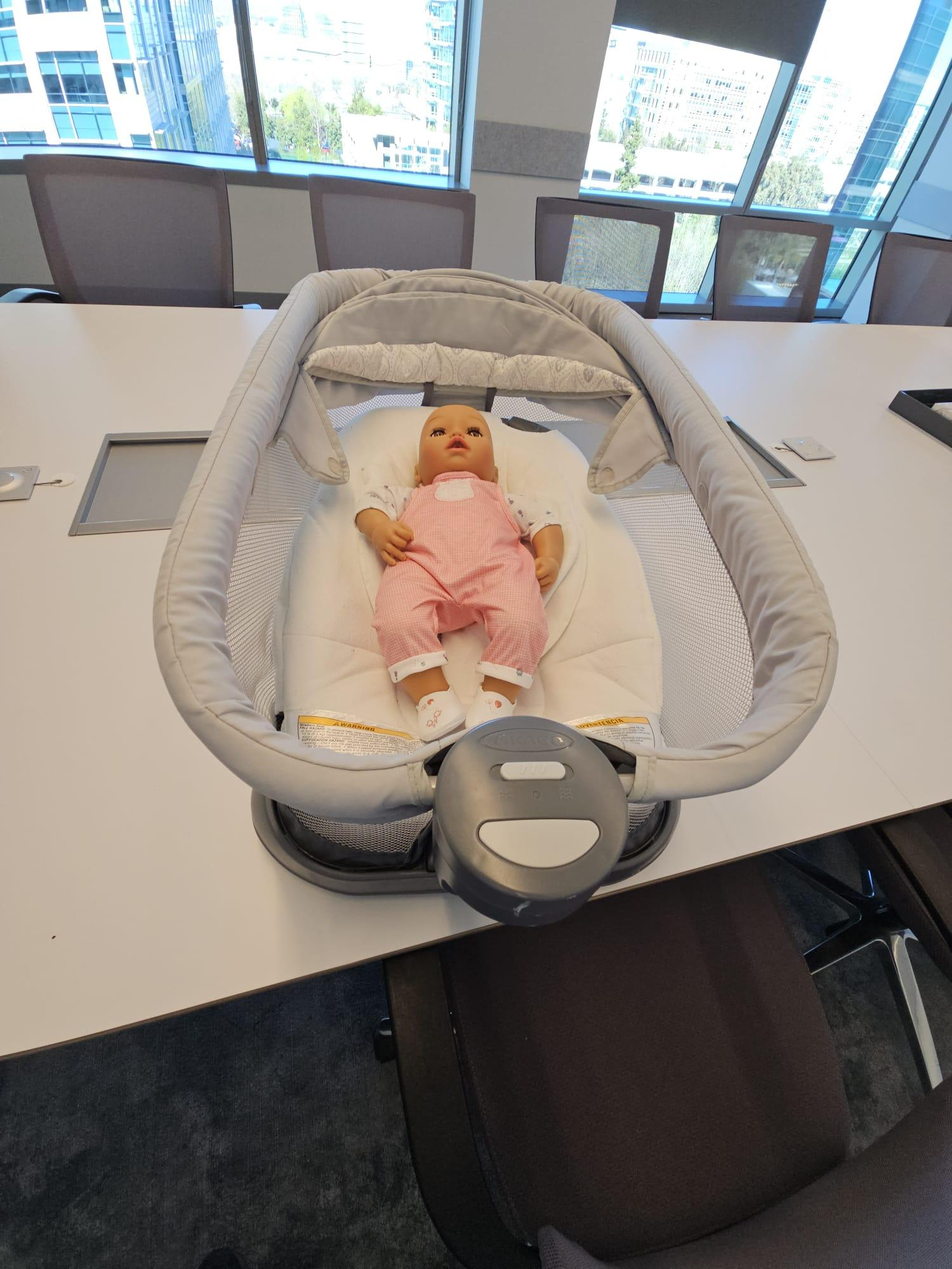baby: (355, 390, 579, 739)
